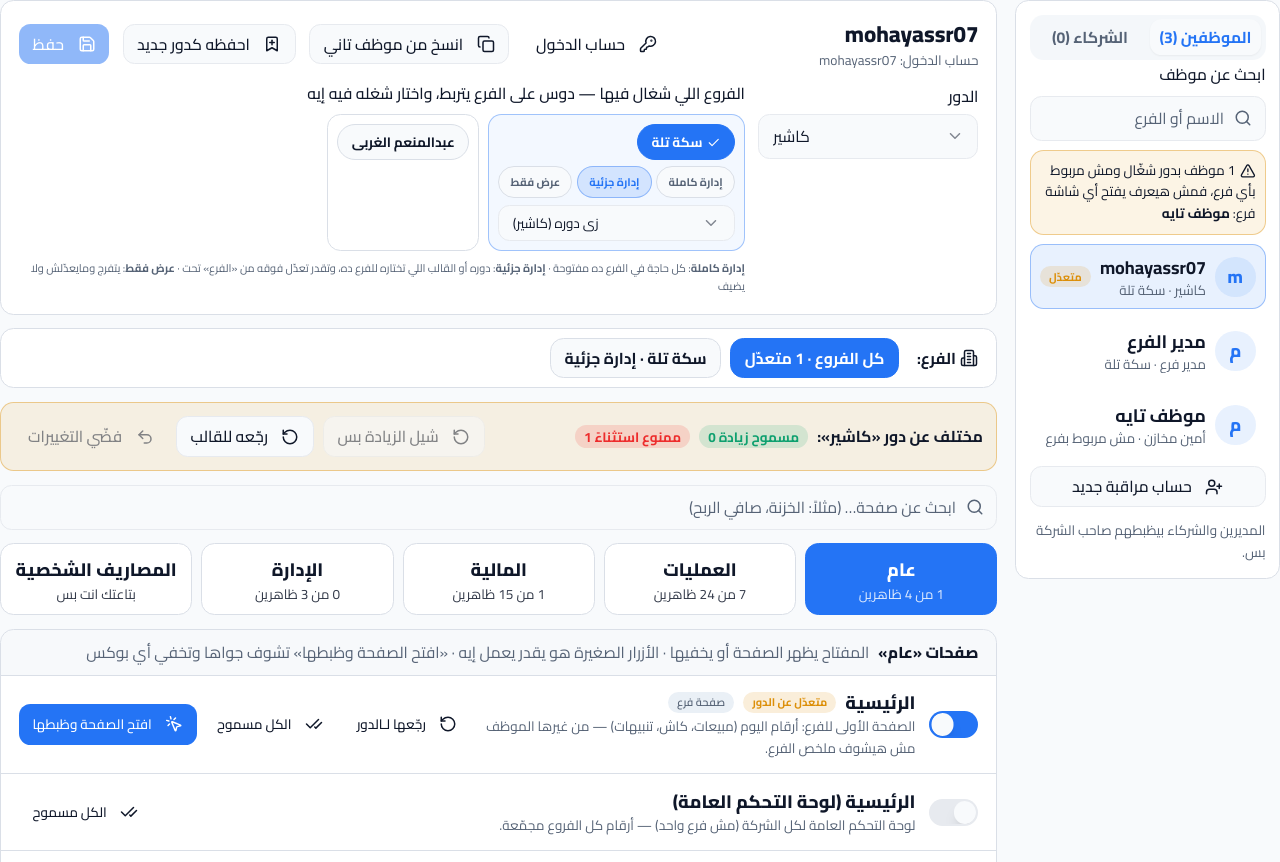
Test case: Employees permissions screen › copies another employee through copy_user_permissions
The image size is (1280, 862).
Click the button "انسخ من موظف تاني" at point(409, 44), box top-left (309, 24), bottom-right (509, 64)
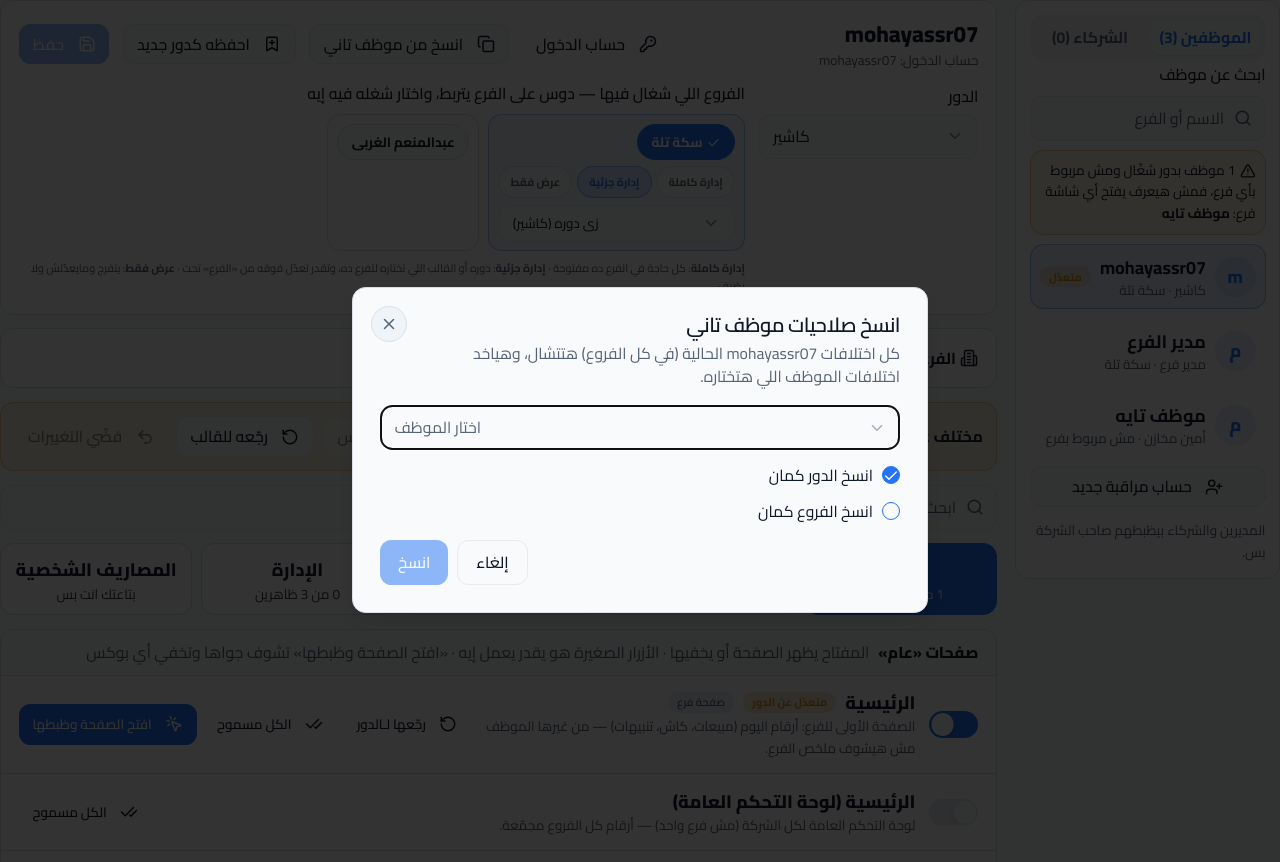
Expected: the heading "انسخ صلاحيات موظف تاني" is shown, top-left (686, 306), bottom-right (900, 344)
Expected: the button "انسخ" is disabled, top-left (380, 540), bottom-right (448, 585)
